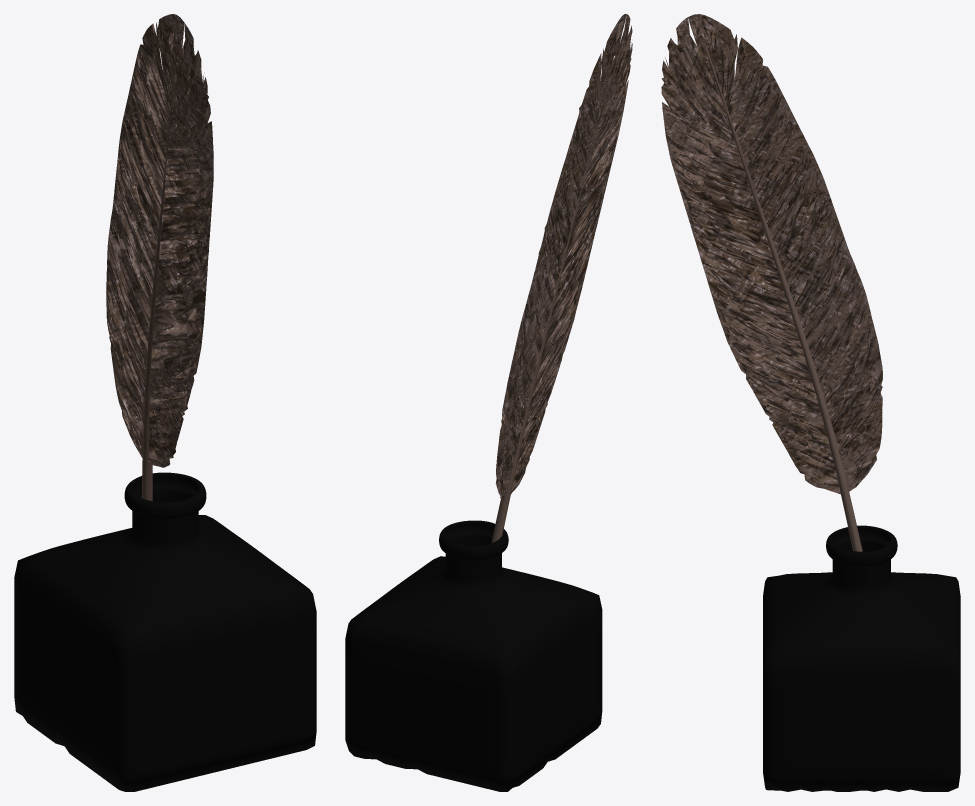
File: Ink & feather.fbx
The picture shows the model from 3 angles, left to right: view 1: azimuth 30°, elevation 25°; view 2: azimuth 150°, elevation 25°; view 3: azimuth 270°, elevation 25°; orthographic projection. The views are drawn at different scales.
Visible parts, largest first — view 1: inkstand; view 2: inkstand; view 3: inkstand.
Boxes of the visible parts, box(x1,y1,x2,y2) form: inkstand: box(14, 14, 316, 791); inkstand: box(345, 14, 632, 791); inkstand: box(661, 14, 960, 791).
Size of the model in its own units: 35.46 by 140 by 53.7.
